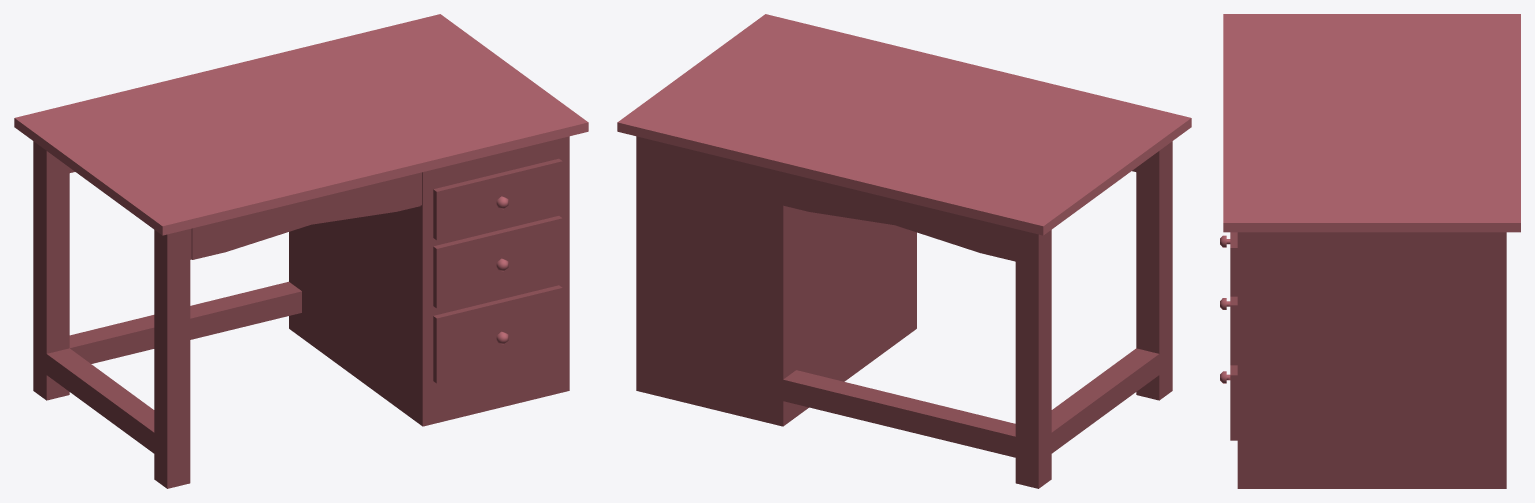
File: SM_Desk_kids_1_01.fbx
3 views of the same model, side by side, from view 1: azimuth 30°, elevation 25°; view 2: azimuth 150°, elevation 25°; view 3: azimuth 270°, elevation 25° (orthographic).
Parts seen in each view (by area): view 1: SM_Desk_kids_1_01; view 2: SM_Desk_kids_1_01; view 3: SM_Desk_kids_1_01.
Part boxes in pixels (<box>): SM_Desk_kids_1_01: <box>14,14,588,488</box>; SM_Desk_kids_1_01: <box>617,14,1191,488</box>; SM_Desk_kids_1_01: <box>1220,14,1520,488</box>.
Size of the model in its own units: 163 by 98.83 by 99.05.
